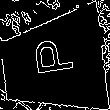P_W: (29, 41, 78, 85)
